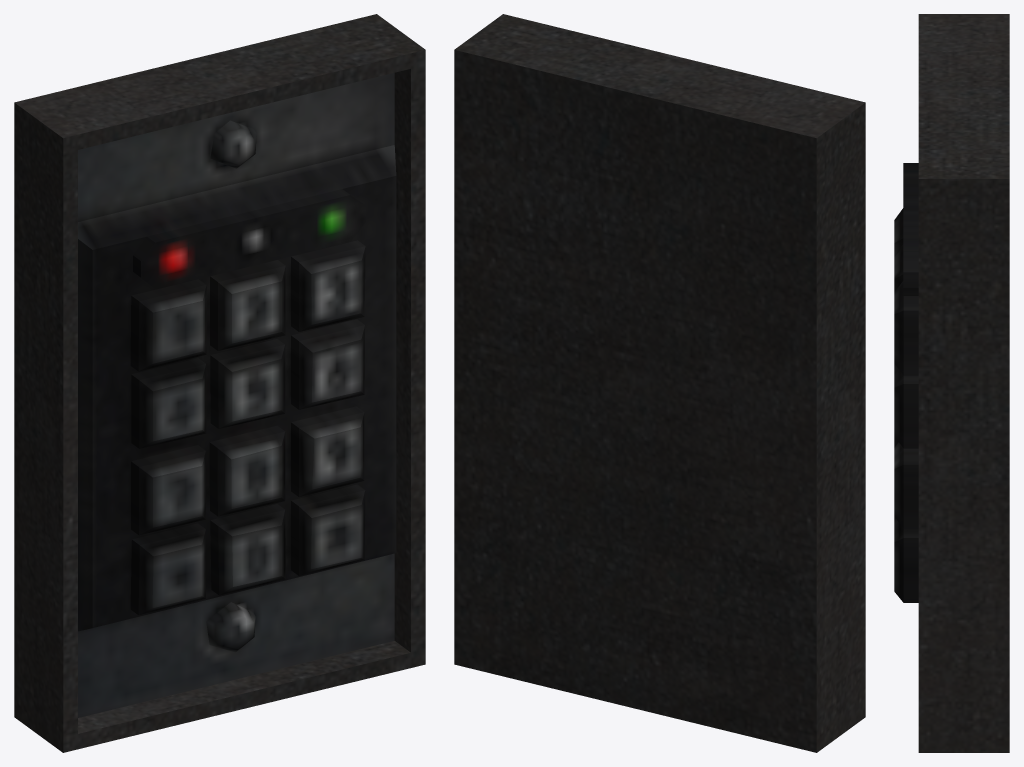
The model's file is keypad_2.fbx.
The picture shows the model from 3 angles, left to right: view 1: azimuth 30°, elevation 25°; view 2: azimuth 150°, elevation 25°; view 3: azimuth 270°, elevation 25°; orthographic projection. The views are drawn at different scales.
Parts seen in each view (by area): view 1: keypad_2; view 2: keypad_2; view 3: keypad_2.
Boxes of the visible parts, x1,y1,x2,y2 form: keypad_2: [14, 14, 425, 752]; keypad_2: [454, 14, 865, 752]; keypad_2: [894, 14, 1009, 752].
Bounding box in the file's own units: 0.1284 × 0.038 × 0.208.
